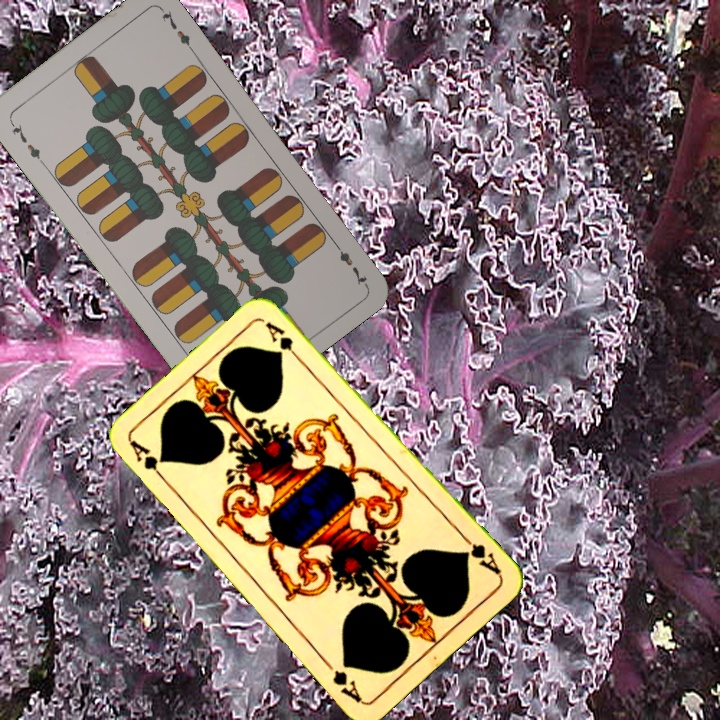E7: (329, 237, 370, 288), (6, 117, 47, 167)
GA: (457, 530, 504, 578), (126, 436, 171, 486)
